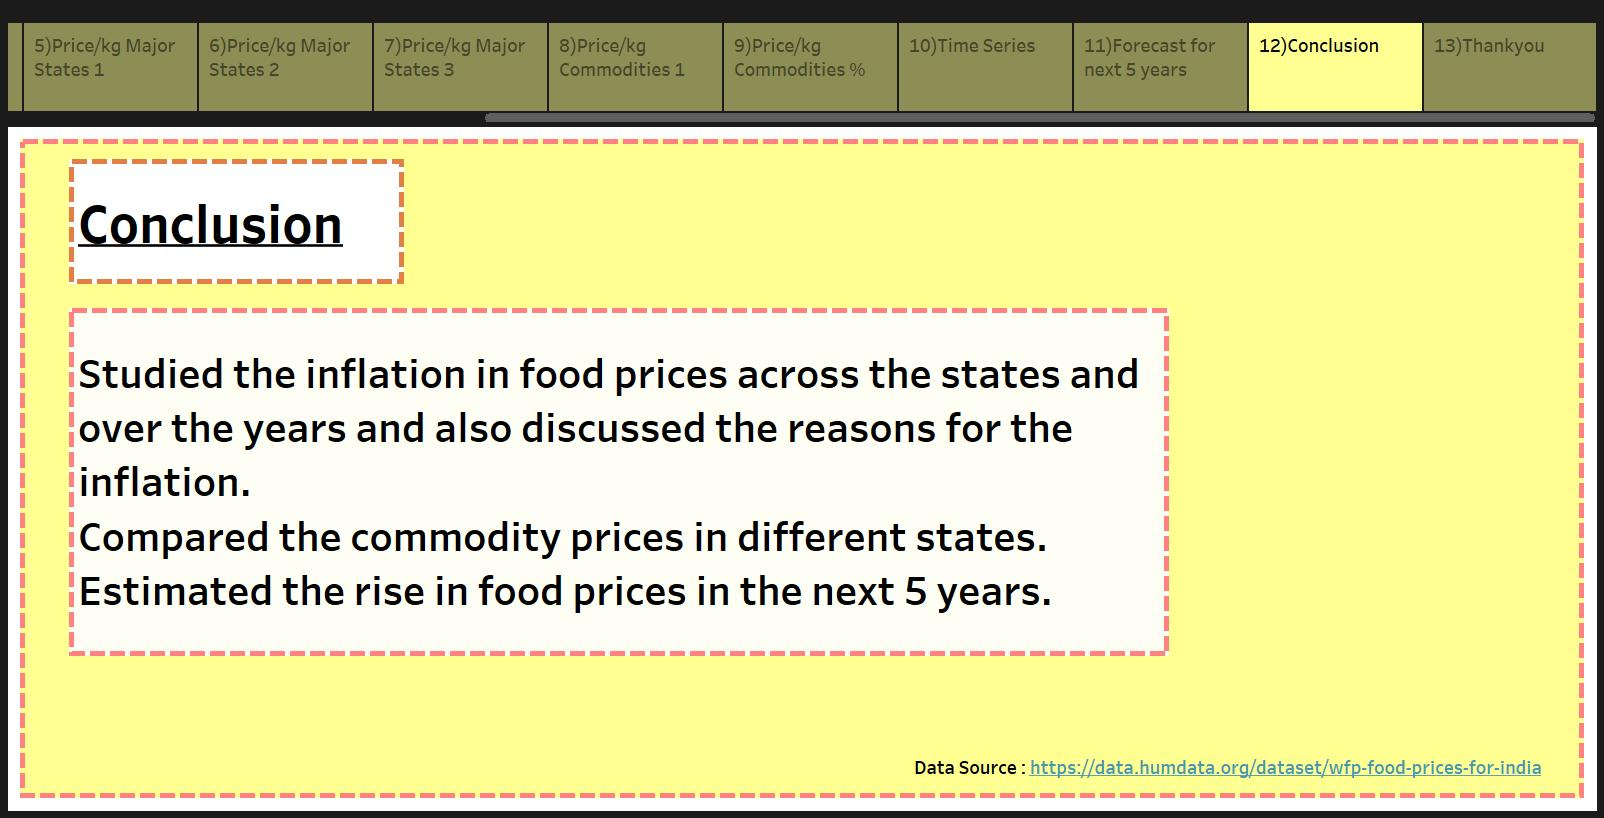

What the dashboard file says about the page in this screenshot:
{"tool":"tableau","page":{"name":"11)d","canvas":[1000,1000],"units":"permille","ordinal":2},"visuals":[{"type":"blank","box":[4.2,7.7,991.7,984.5]},{"type":"text","box":[66,356.2,900,292.5]}]}

Visuals, with their boxes on the dashboard's canvas, which has no fixed pixel size, in thousandths of its width and height (x1, y1, x2, y2). These are canvas units, not pixel positions in the 1604x818 screenshot, which may show the page scaled, cropped or inside an application window:
blank: BBox(4, 8, 996, 992)
text: BBox(66, 356, 966, 649)
